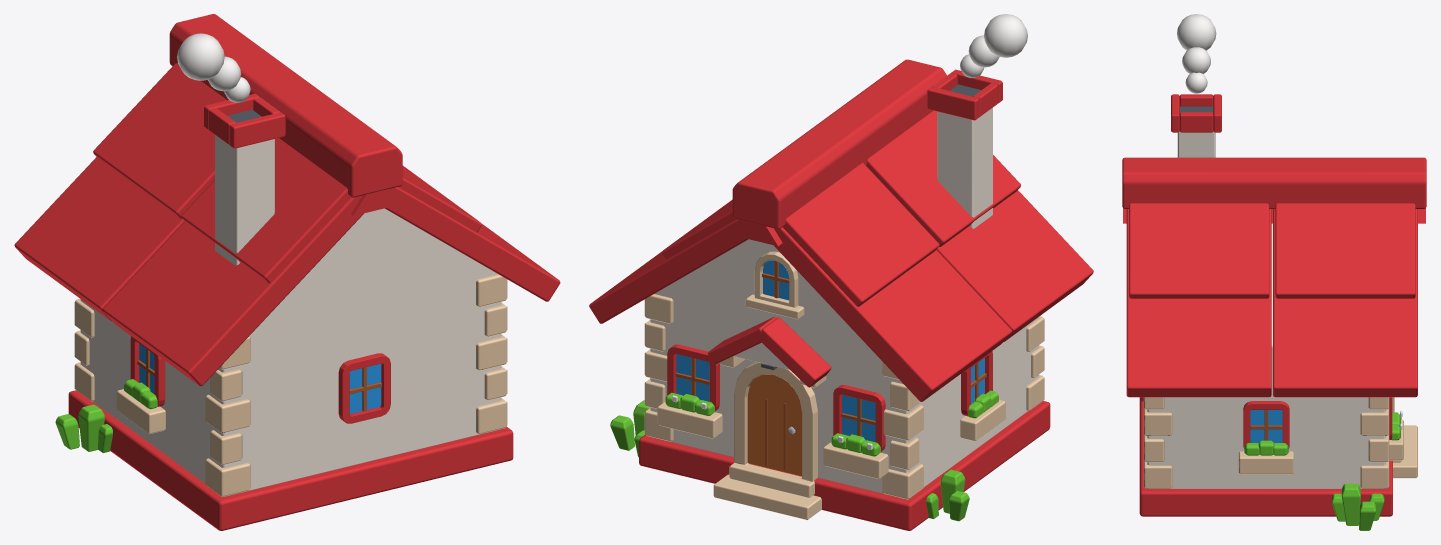
The model's file is Cottage.glb.
3 views of the same model, side by side, from view 1: azimuth 30°, elevation 25°; view 2: azimuth 150°, elevation 25°; view 3: azimuth 270°, elevation 25° (orthographic). The views are drawn at different scales.
Visible parts, largest first — view 1: M_Cottage_ToyRed, M_Cottage_HouseWall, M_Cottage_HouseTrim, M_Cottage_PlaneBody, M_Cottage_Leaves, M_Cottage_TruckCab; view 2: M_Cottage_ToyRed, M_Cottage_HouseWall, M_Cottage_HouseTrim, M_Cottage_ToyLeg, M_Cottage_Leaves, M_Cottage_TruckCab, M_Cottage_PlaneBody, M_Cottage_FenceWood; view 3: M_Cottage_ToyRed, M_Cottage_HouseWall, M_Cottage_HouseTrim, M_Cottage_Leaves, M_Cottage_PlaneBody, M_Cottage_TruckCab.
Boxes of the visible parts, x1=… form: M_Cottage_ToyRed: x1=14, y1=14, x2=560, y2=530; M_Cottage_HouseWall: x1=80, y1=135, x2=501, y2=496; M_Cottage_HouseTrim: x1=74, y1=274, x2=507, y2=496; M_Cottage_PlaneBody: x1=177, y1=33, x2=250, y2=102; M_Cottage_Leaves: x1=55, y1=379, x2=157, y2=453; M_Cottage_TruckCab: x1=139, y1=344, x2=381, y2=413; M_Cottage_ToyRed: x1=589, y1=59, x2=1093, y2=530; M_Cottage_HouseWall: x1=650, y1=107, x2=1039, y2=499; M_Cottage_HouseTrim: x1=644, y1=251, x2=1044, y2=520; M_Cottage_ToyLeg: x1=747, y1=374, x2=801, y2=476; M_Cottage_Leaves: x1=610, y1=390, x2=998, y2=521; M_Cottage_TruckCab: x1=676, y1=260, x2=984, y2=442; M_Cottage_PlaneBody: x1=672, y1=14, x2=1027, y2=449; M_Cottage_FenceWood: x1=675, y1=260, x2=986, y2=470; M_Cottage_ToyRed: x1=1122, y1=94, x2=1426, y2=516; M_Cottage_HouseWall: x1=1147, y1=131, x2=1385, y2=488; M_Cottage_HouseTrim: x1=1143, y1=397, x2=1417, y2=488; M_Cottage_Leaves: x1=1244, y1=412, x2=1400, y2=530; M_Cottage_PlaneBody: x1=1177, y1=14, x2=1402, y2=430; M_Cottage_TruckCab: x1=1250, y1=410, x2=1282, y2=443.
Bounding box in the file's own units: 12.32 × 14.7 × 10.45.
